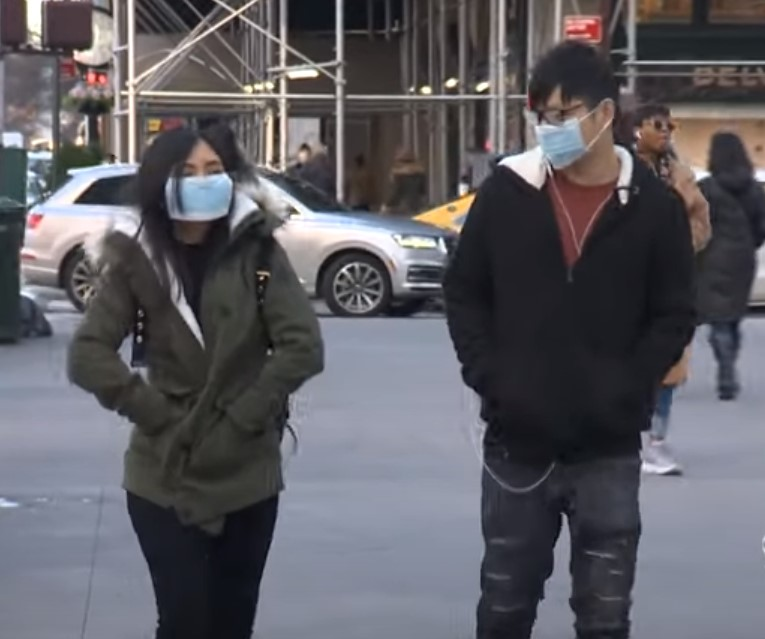face_with_mask: (528, 44, 614, 173), (155, 132, 238, 227)
